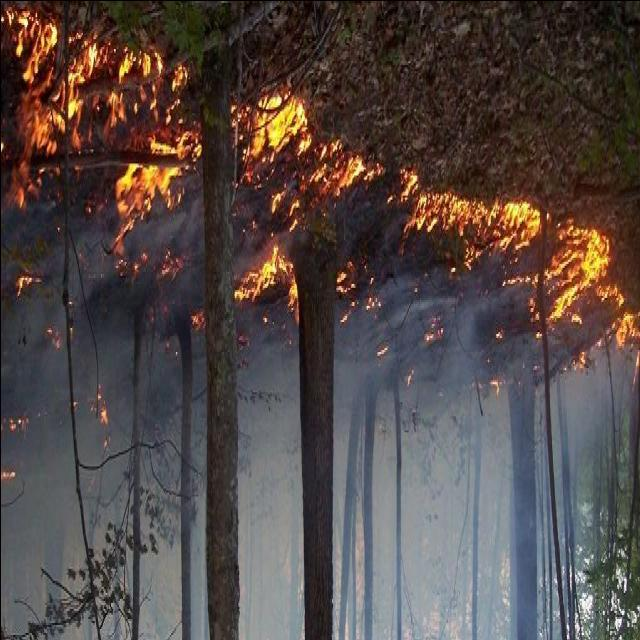Fire: (0, 14, 186, 241), (493, 202, 614, 332), (240, 105, 349, 232)
